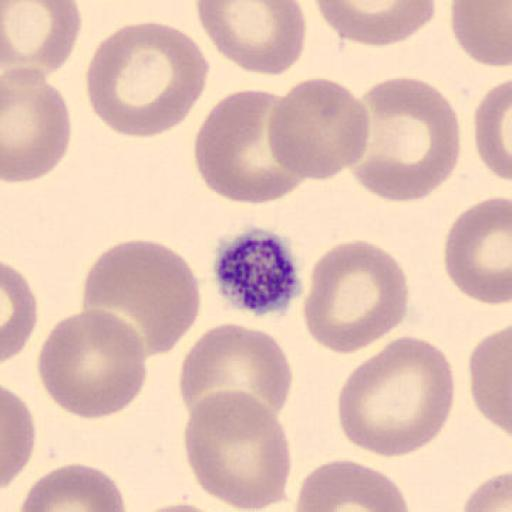Platelet: (210, 225, 305, 318)
RBC: (336, 334, 456, 459), (86, 20, 210, 140), (80, 238, 202, 358), (352, 74, 462, 204), (182, 388, 293, 512), (193, 88, 305, 205), (36, 307, 149, 421), (302, 238, 410, 356), (178, 321, 294, 425), (268, 76, 372, 182), (195, 1, 308, 77), (2, 67, 72, 184), (443, 194, 512, 306), (0, 0, 84, 80), (294, 457, 412, 512), (314, 0, 437, 47), (17, 462, 128, 512), (469, 324, 512, 438), (473, 75, 512, 184), (450, 1, 511, 68), (1, 384, 37, 492), (2, 258, 38, 364), (461, 469, 512, 512), (132, 500, 234, 512)
